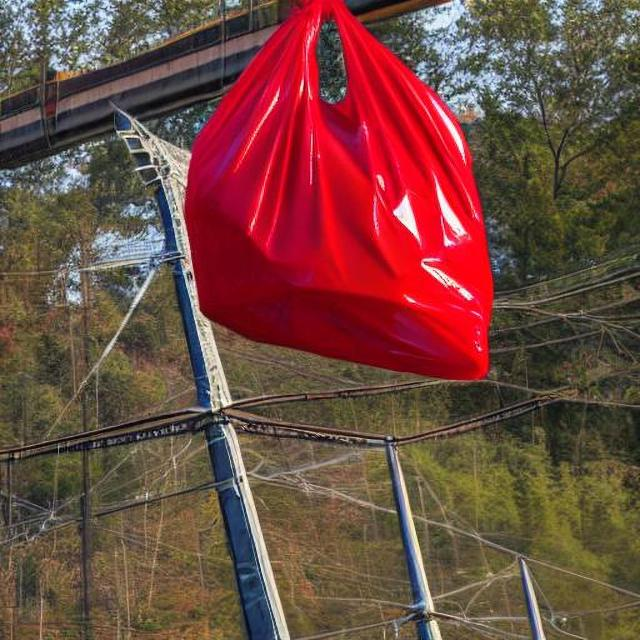plastic bag: (179, 4, 502, 395)
